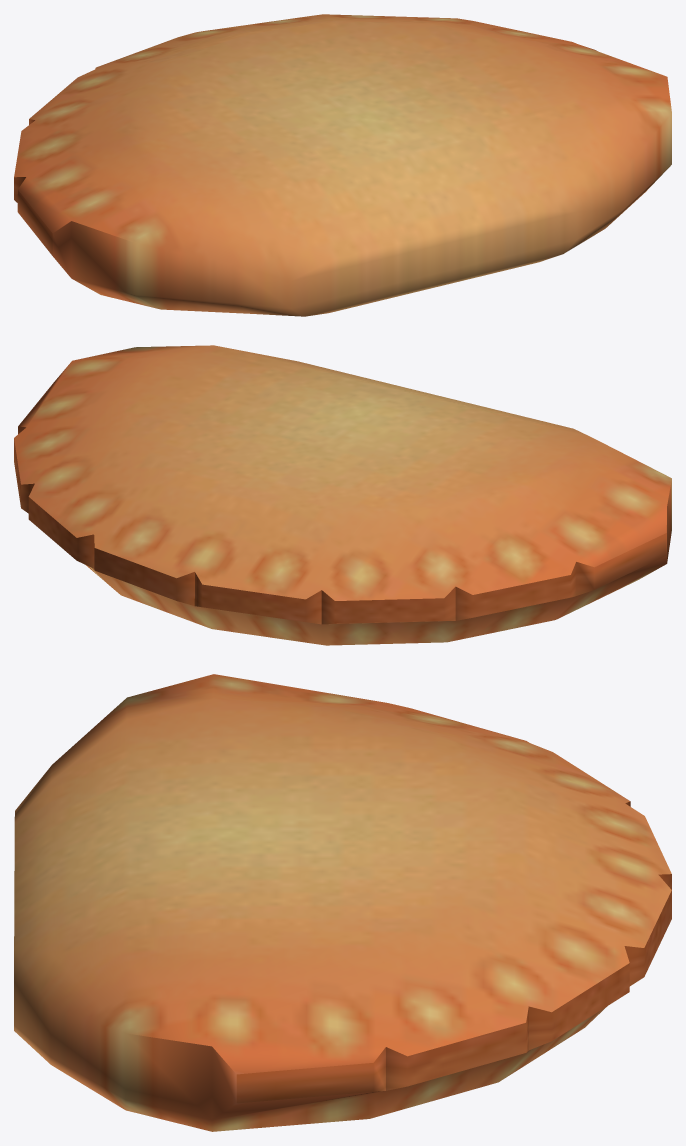
Rendered from Pastie.fbx.
3 renders of one model, top to bottom at view 1: azimuth 30°, elevation 25°; view 2: azimuth 150°, elevation 25°; view 3: azimuth 270°, elevation 25°, orthographic. The views are drawn at different scales.
Parts seen in each view (by area): view 1: Cake; view 2: Cake; view 3: Cake.
Part boxes in pixels (box(x1,y1,x2,y2)): Cake: box(14, 14, 671, 316); Cake: box(14, 345, 671, 645); Cake: box(14, 674, 671, 1131).
Bounding box in the file's own units: 0.6945 × 0.1188 × 0.5041.
Materials: 1 (1 with a texture image).
